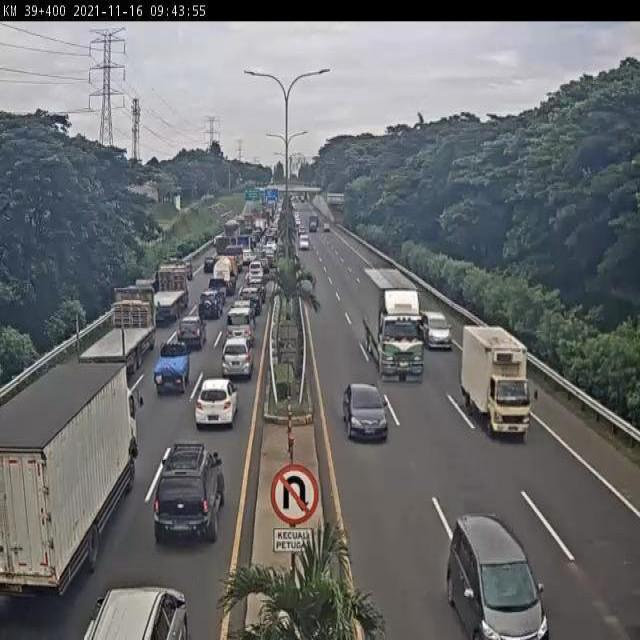car: (447, 514, 548, 640), (154, 442, 229, 546), (344, 381, 391, 444), (195, 379, 239, 429), (151, 344, 190, 397), (222, 337, 255, 383), (228, 306, 257, 346), (177, 319, 205, 352), (199, 291, 222, 321)
small truck: (460, 323, 539, 441)
truck-l-: (69, 288, 152, 383), (361, 271, 425, 381), (147, 264, 193, 324)
truck-m-: (0, 360, 141, 603)
